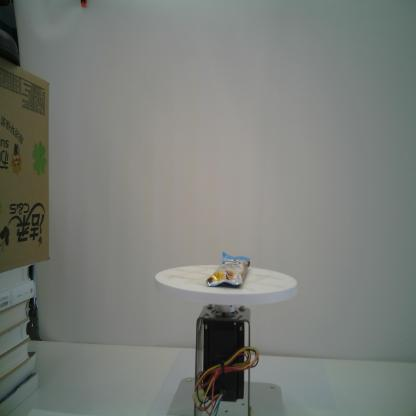Chocolate: (205, 250, 251, 288)
